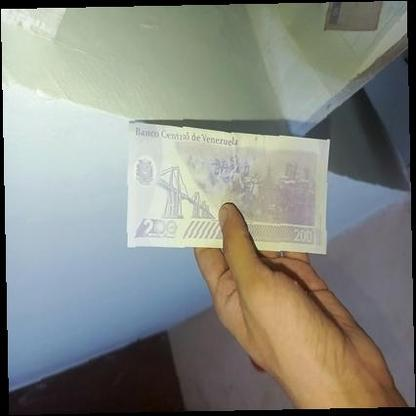two_hundred-back-vef: (126, 122, 332, 256)
